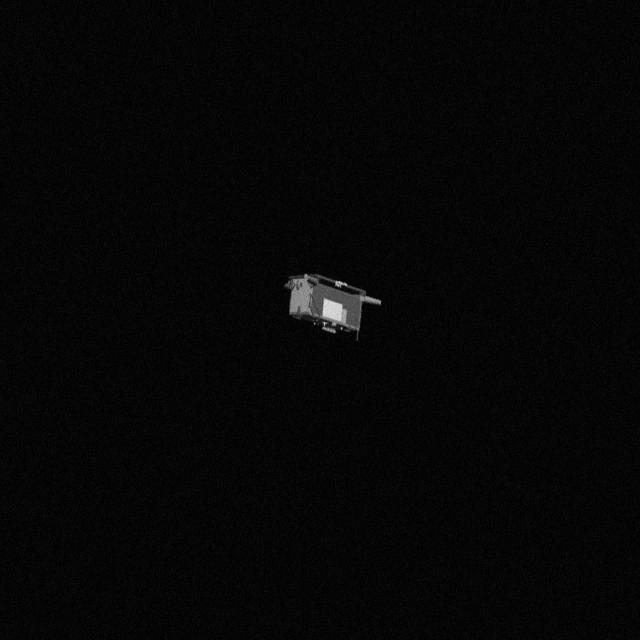satellite: (284, 254, 388, 338)
